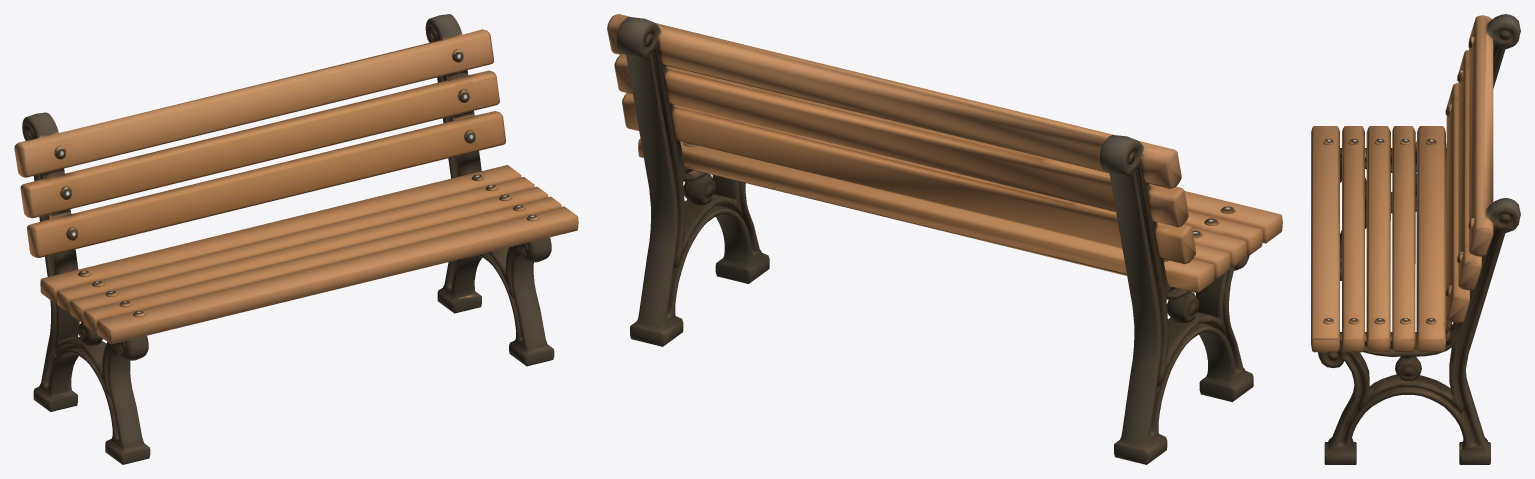
Rendered from a_park_bench_677d7774_v2.glb.
3 views of the same model, side by side, from view 1: azimuth 30°, elevation 25°; view 2: azimuth 150°, elevation 25°; view 3: azimuth 270°, elevation 25° (orthographic). The views are drawn at different scales.
Parts seen in each view (by area): view 1: material; view 2: material; view 3: material.
Boxes of the visible parts, left/top/right/bottom form: material: left=14, top=14, right=578, bottom=464; material: left=607, top=14, right=1282, bottom=464; material: left=1311, top=14, right=1520, bottom=464.
Size of the model in its own units: 1.9 by 1.07 by 0.7908.
1 material, 1 textured.
